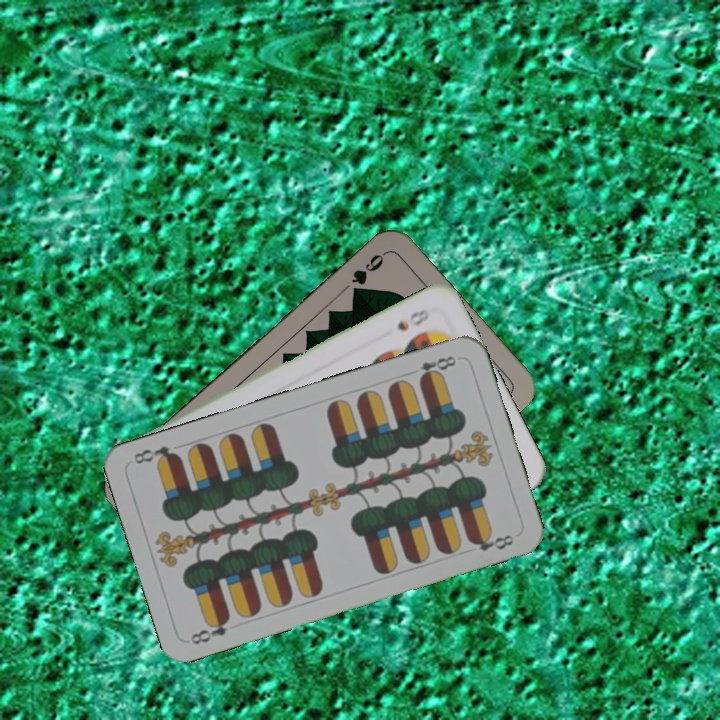E8: (186, 612, 233, 647), (415, 352, 459, 384)
G9: (346, 248, 389, 300)
S8: (393, 304, 432, 334)
